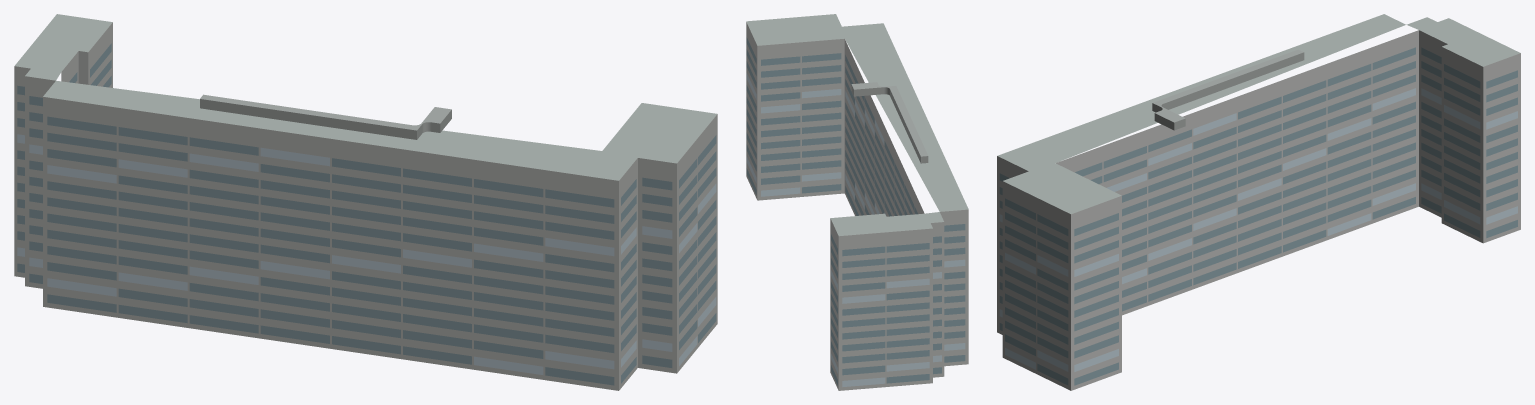
Rendered from apt-a13922002.glb.
The picture shows the model from 3 angles, left to right: view 1: azimuth 30°, elevation 25°; view 2: azimuth 150°, elevation 25°; view 3: azimuth 270°, elevation 25°; orthographic projection. The views are drawn at different scales.
Parts seen in each view (by area): view 1: apt-a13922002; view 2: apt-a13922002; view 3: apt-a13922002.
Boxes of the visible parts, x1,y1,x2,y2 form: apt-a13922002: (14, 14, 717, 390); apt-a13922002: (746, 14, 968, 390); apt-a13922002: (997, 14, 1520, 390).
Bounding box in the file's own units: 96.49 × 41.43 × 107.
